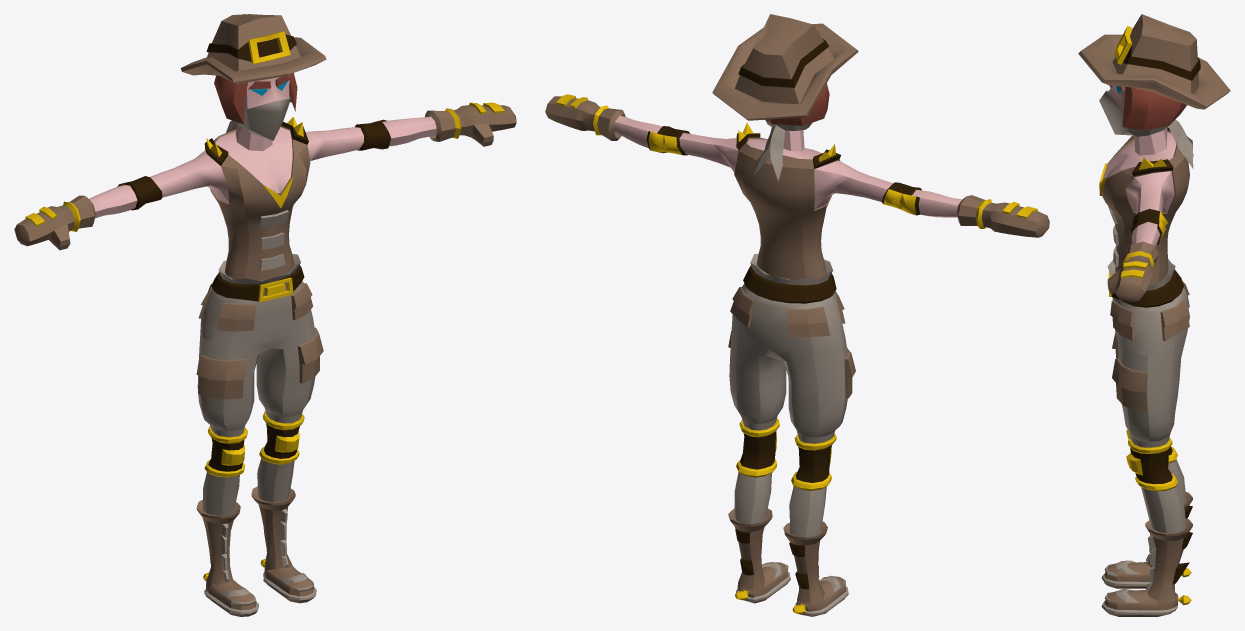
The model's file is pistolera.fbx.
3 renders of one model, left to right at view 1: azimuth 30°, elevation 25°; view 2: azimuth 150°, elevation 25°; view 3: azimuth 270°, elevation 25°, orthographic.
Visible parts, largest first — view 1: pCube5; view 2: pCube5; view 3: pCube5.
Boxes of the visible parts, left/top/right/bottom form: pCube5: left=14, top=14, right=516, bottom=616; pCube5: left=545, top=14, right=1049, bottom=616; pCube5: left=1078, top=14, right=1230, bottom=616.
Bounding box in the file's own units: 54.48 × 60.23 × 14.51.
